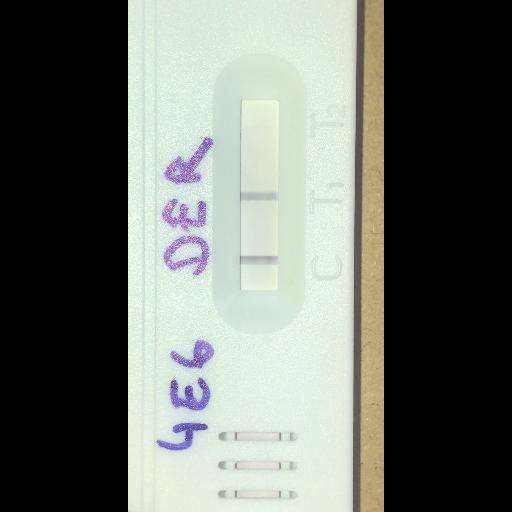Pos: (128, 0, 359, 511)
